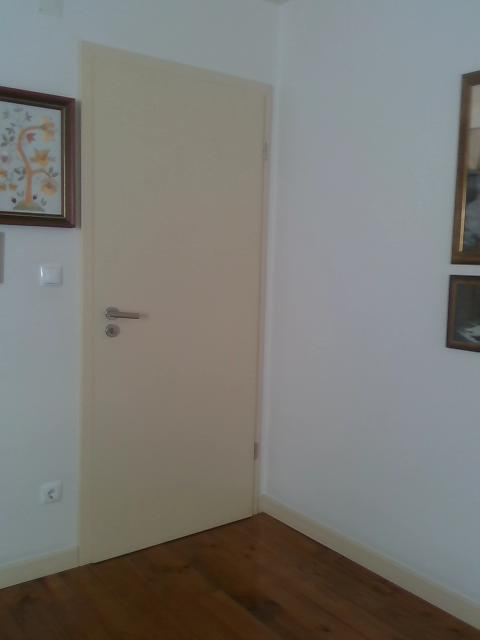door: (91, 48, 264, 568)
